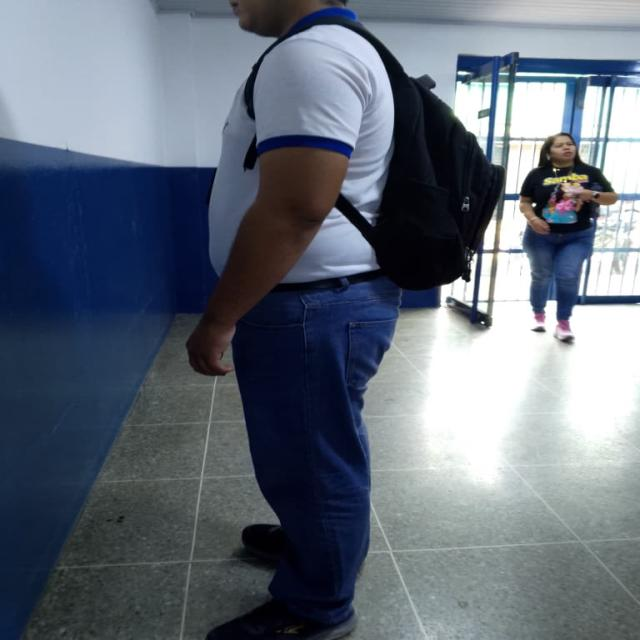pantalon_oscuro: (232, 277, 402, 627)
uniforme_superior: (208, 8, 398, 283)
